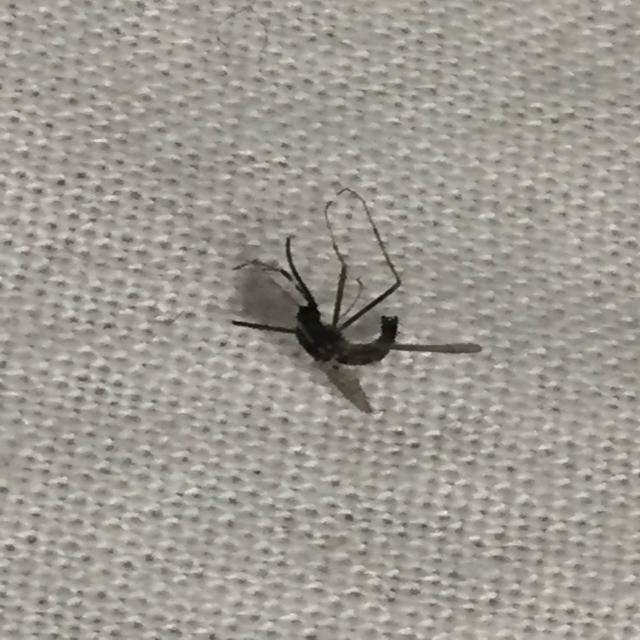albopictus: (211, 177, 488, 410)
